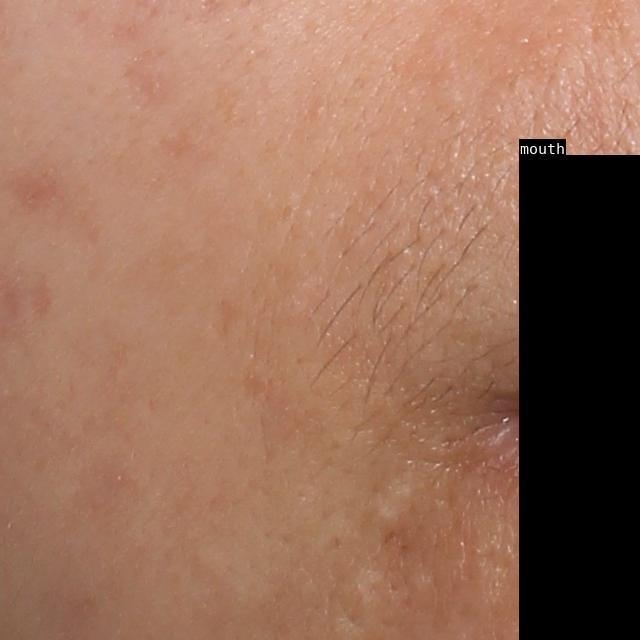hypertrophic_scar: (370, 478, 419, 536)
